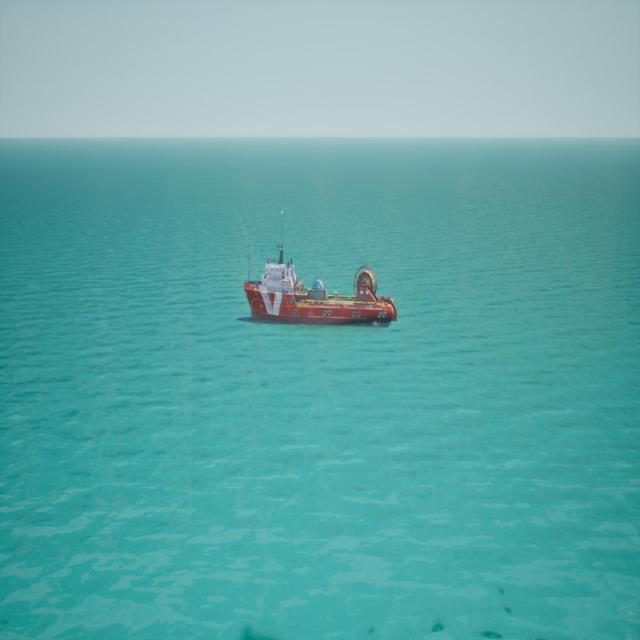tug boat: (238, 266, 401, 328)
